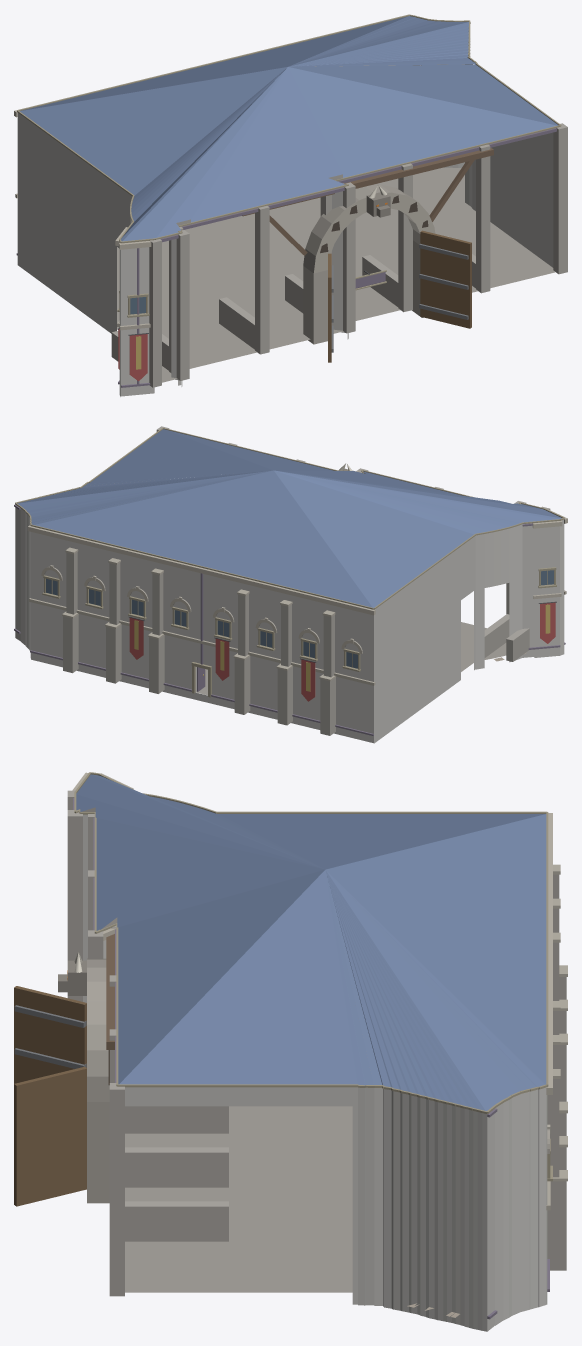
Rendered from dragon01.glb.
3 renders of one model, top to bottom at view 1: azimuth 30°, elevation 25°; view 2: azimuth 150°, elevation 25°; view 3: azimuth 270°, elevation 25°, orthographic. The views are drawn at different scales.
Parts seen in each view (by area): view 1: DRAGON01_visible; view 2: DRAGON01_visible; view 3: DRAGON01_visible.
Part boxes in pixels (x1,y1,x2,y2): DRAGON01_visible: [14, 14, 567, 396]; DRAGON01_visible: [14, 426, 567, 743]; DRAGON01_visible: [14, 772, 567, 1331].
Size of the model in its own units: 37.59 by 15.32 by 25.76.
